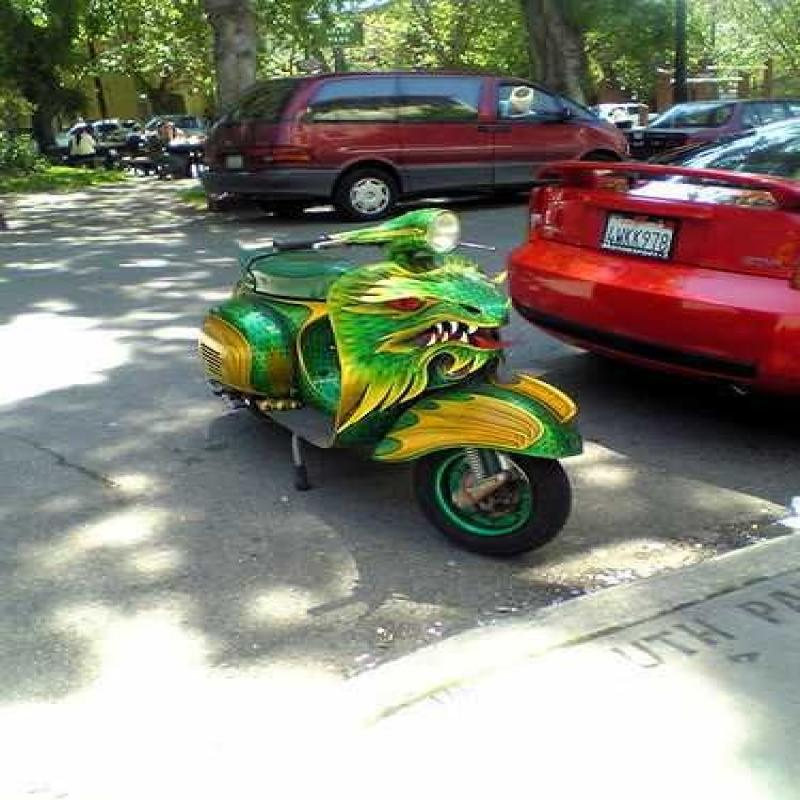bike: (147, 210, 601, 557)
